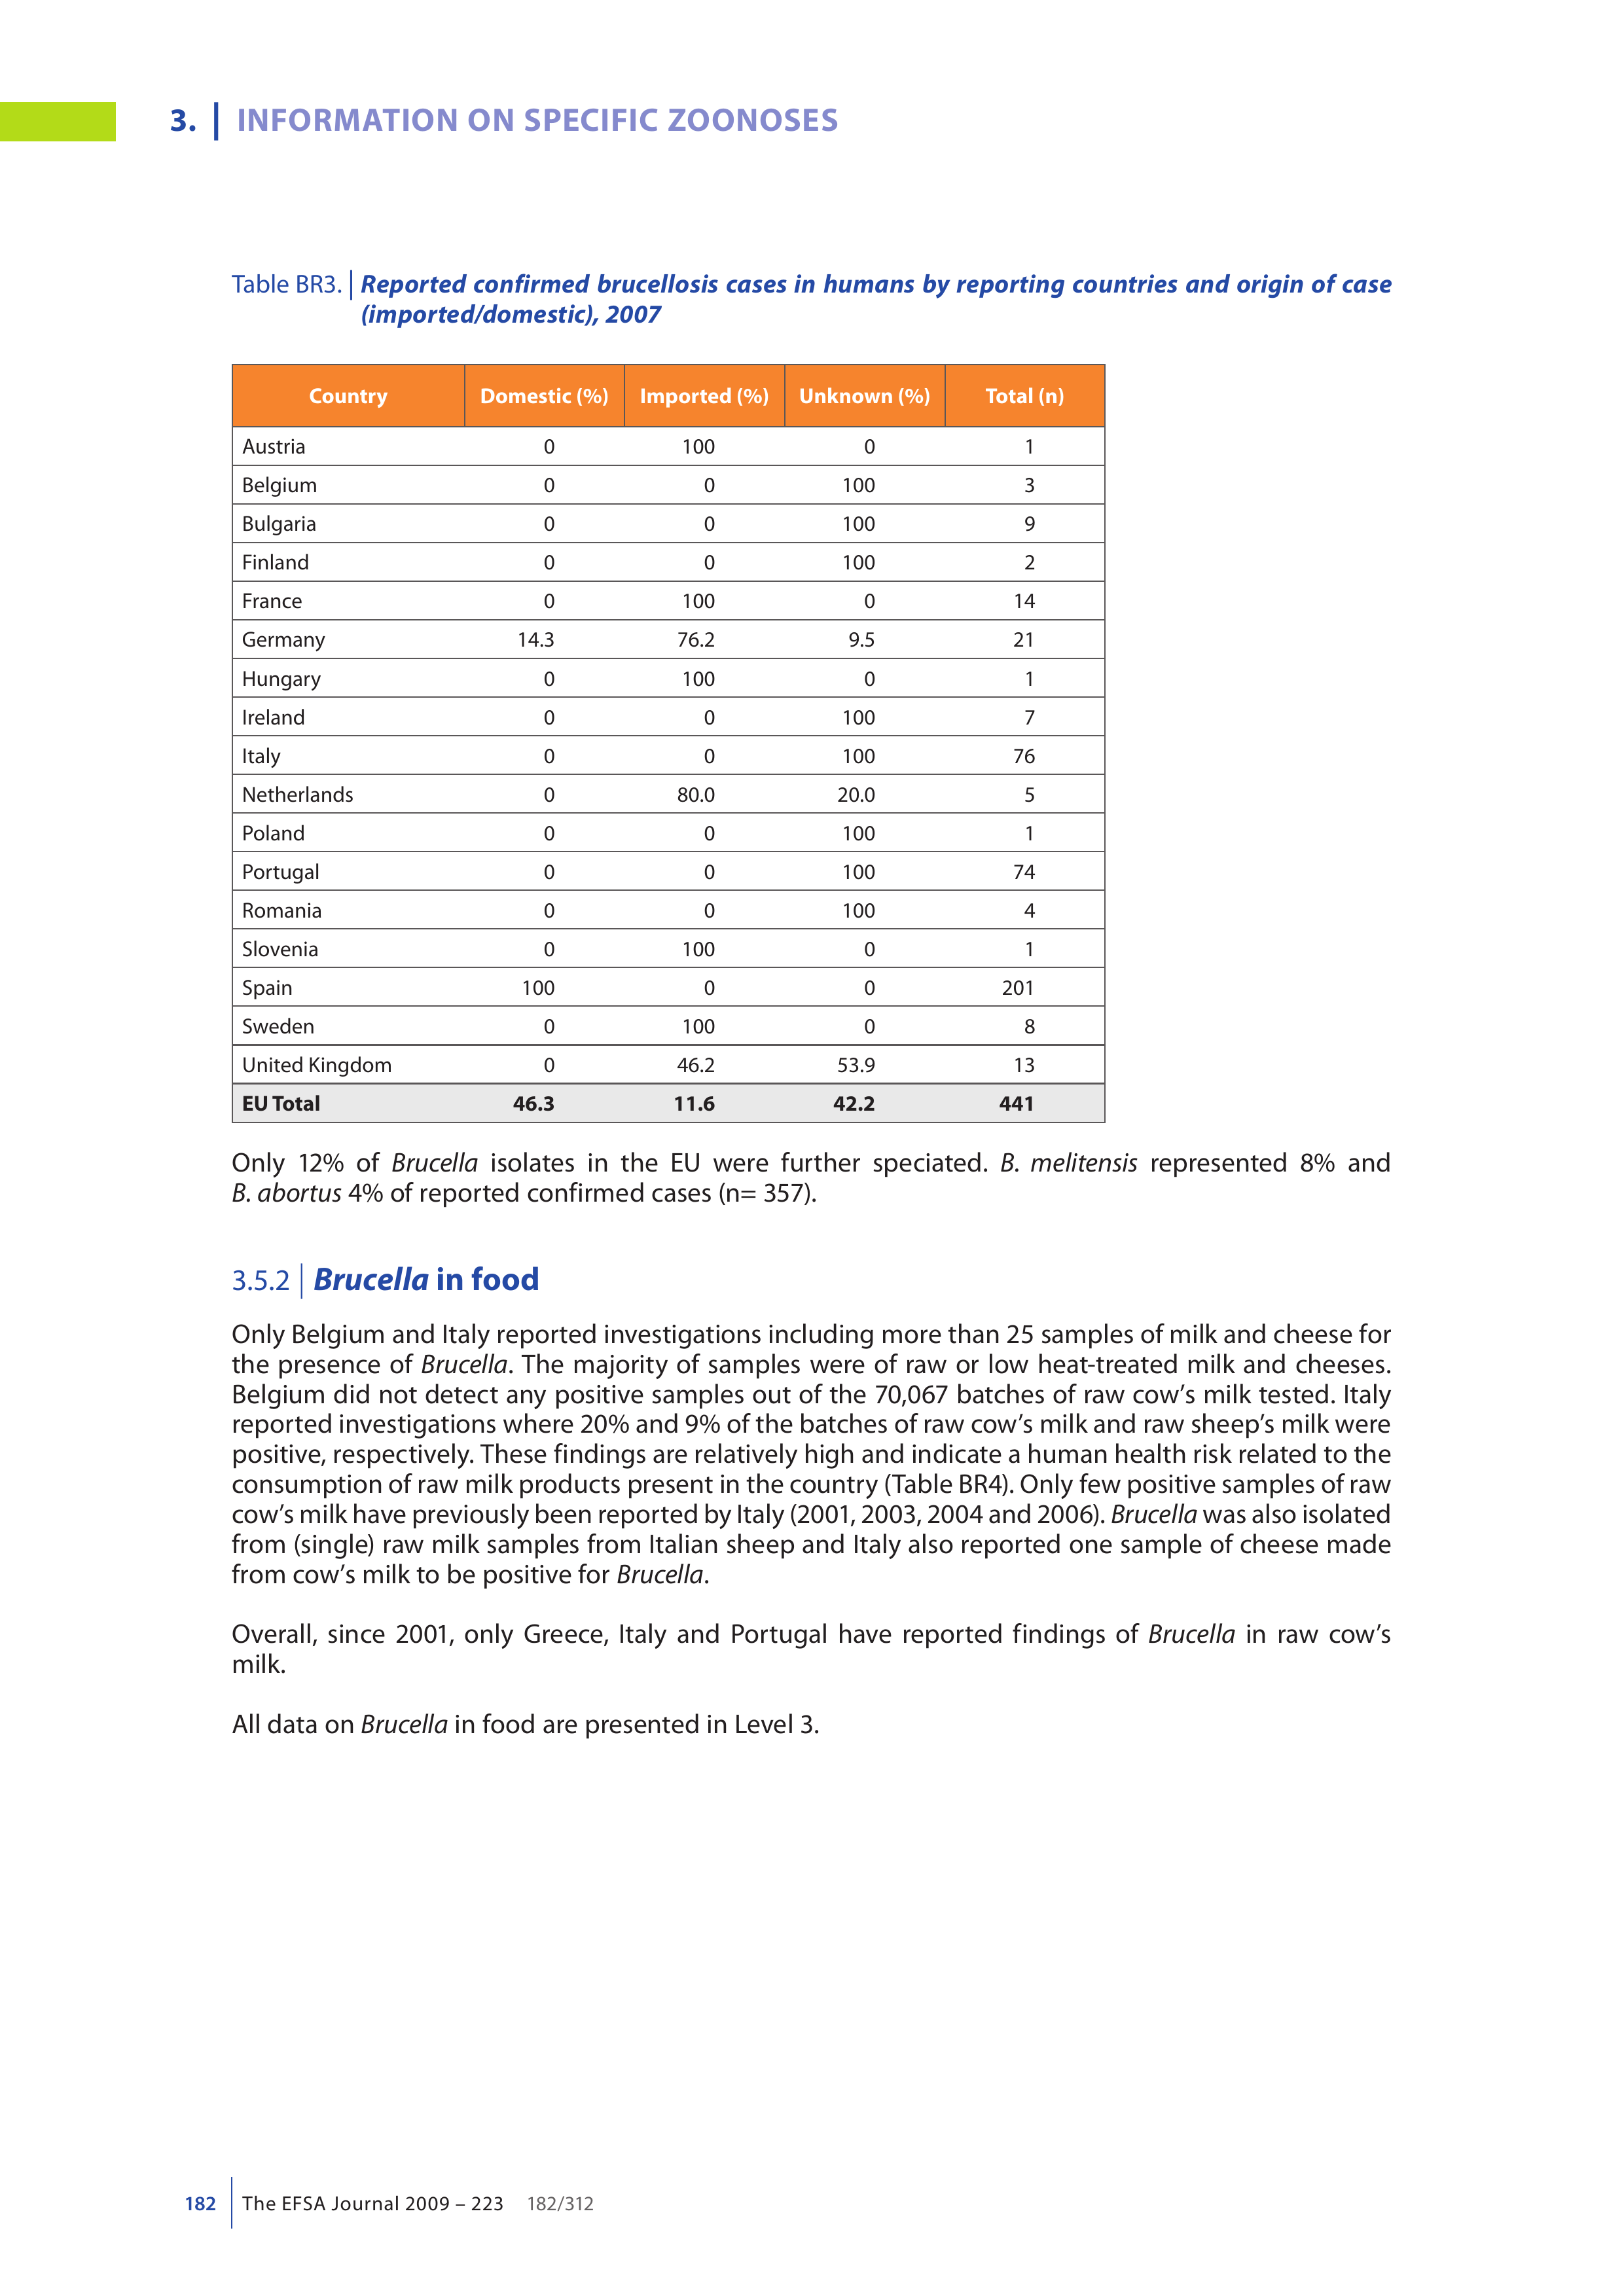table: (228, 360, 1107, 1124)
